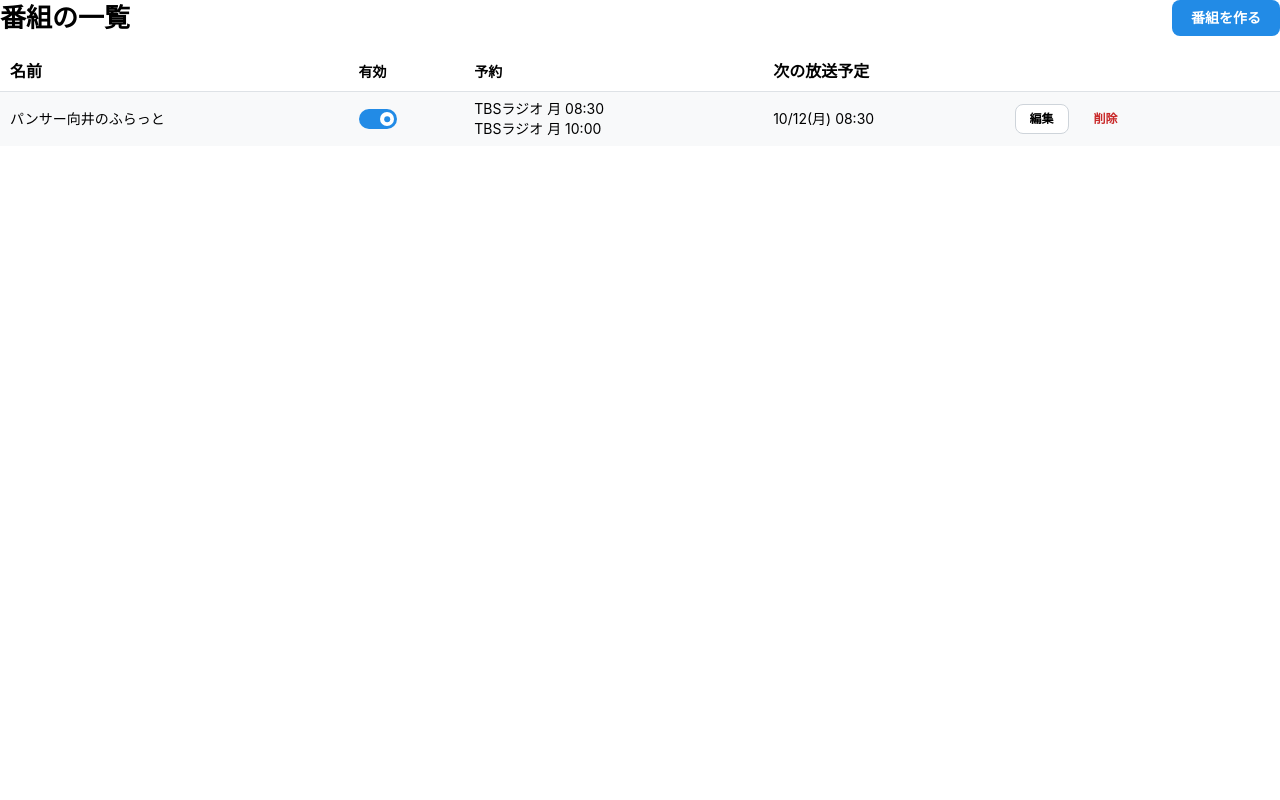
Scenario: ShowsPage › 無効にするときは確かめの Modal に消えるジョブの件数を出し、取消すと変わらない
Click the switch named "パンサー向井のふらっと を有効にする": (378, 119) [359, 109, 397, 129]
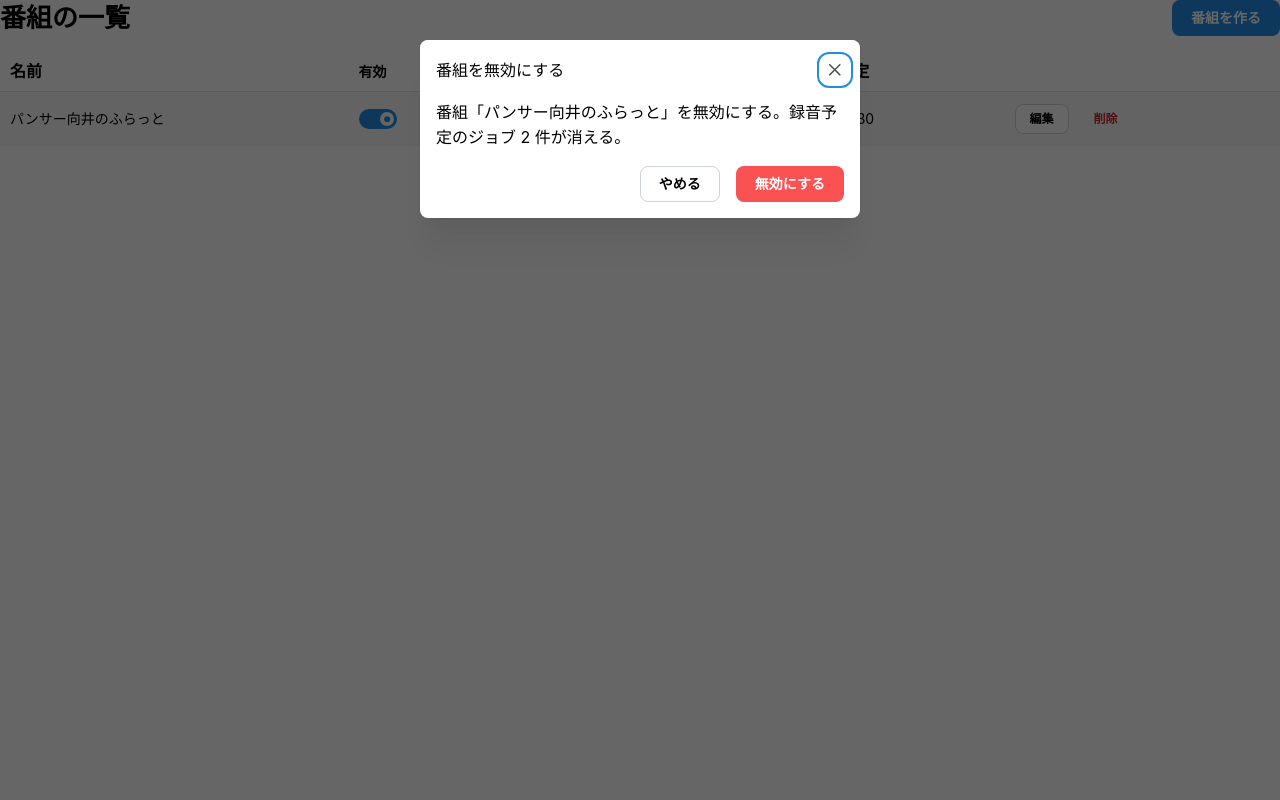
Click the button "やめる": (680, 184) [640, 166, 720, 202]
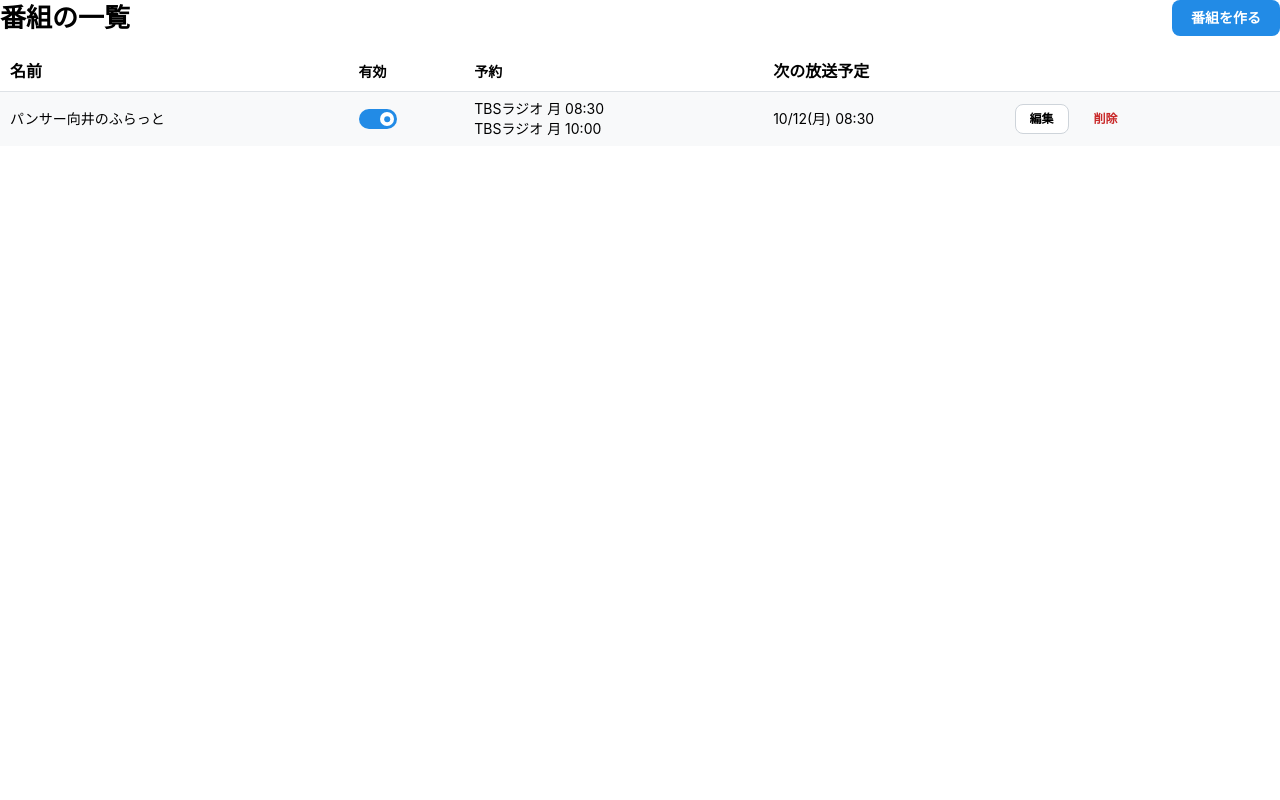
Expected: the switch is checked, [359, 109, 397, 129]
Expected: the dialog is gone
